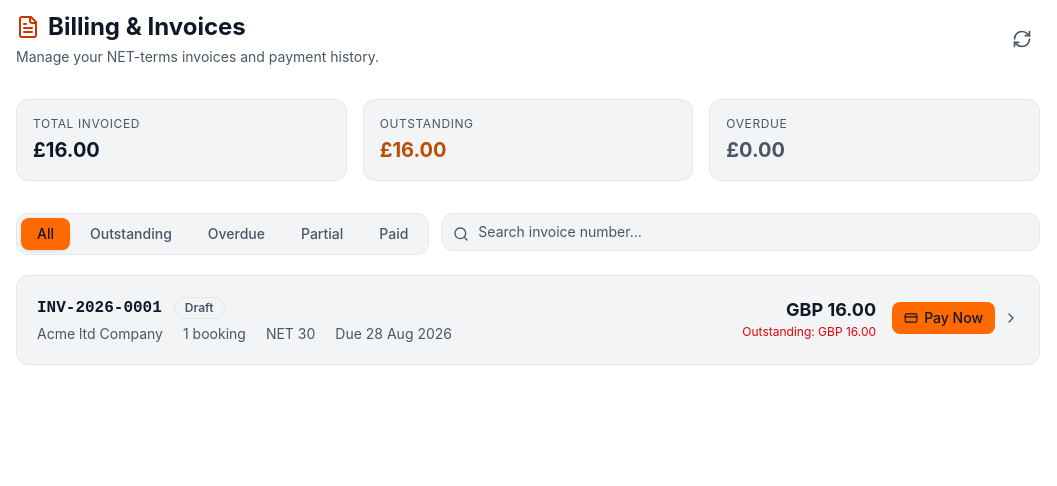
Test case: tiles come from summary, so they do not move when the tab changes
The width and height of the screenshot is (1057, 486).
Expected: the text "INV-2026-0001" is shown, 37,296 -> 162,320
Expected: the text with test id "tile-total" reads "£16.00", 33,138 -> 100,162
Step 1. Click the button "Paid" → click(394, 234), box 363,218 -> 424,250
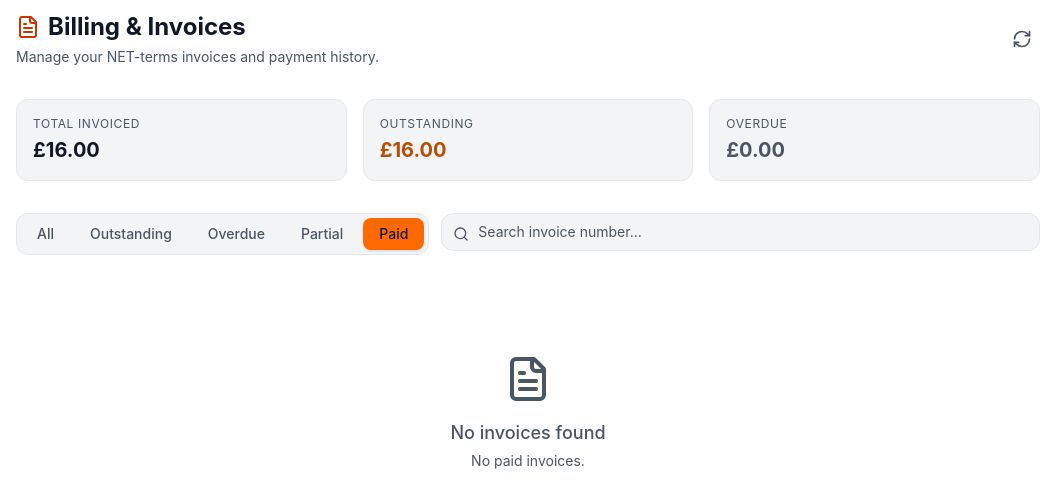
Expected: the text with test id "tile-total" reads "£16.00", 33,138 -> 100,162
Expected: the text "No invoices found" is shown, 450,422 -> 606,443
